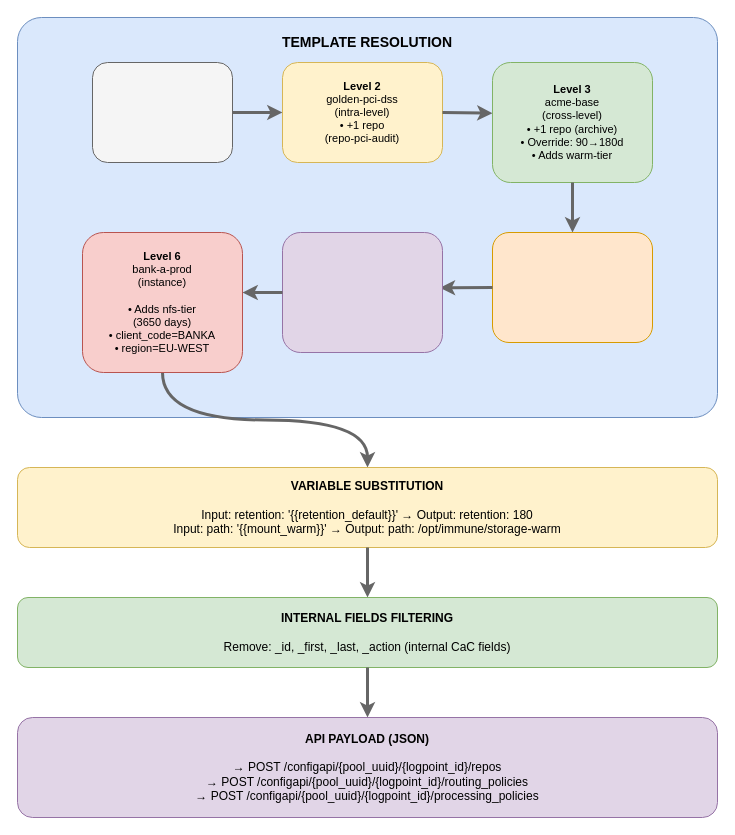
The diagram is 735 pixels wide and 835 high, and some of its shapes have lost their labels. The shapes that lost their labels are listed below. From the top down, each one's centre as x and y in pixels, then its label:
point (162, 112): Level 1 golden-base • 6 repos
point (362, 292): Level 5 acme-banking-premium • +1 repo (banking-archive) • 10 years retention
point (572, 287): Level 4 acme-banking-addon • +1 repo (trading) • +3 tiers (fast/warm/nfs)
